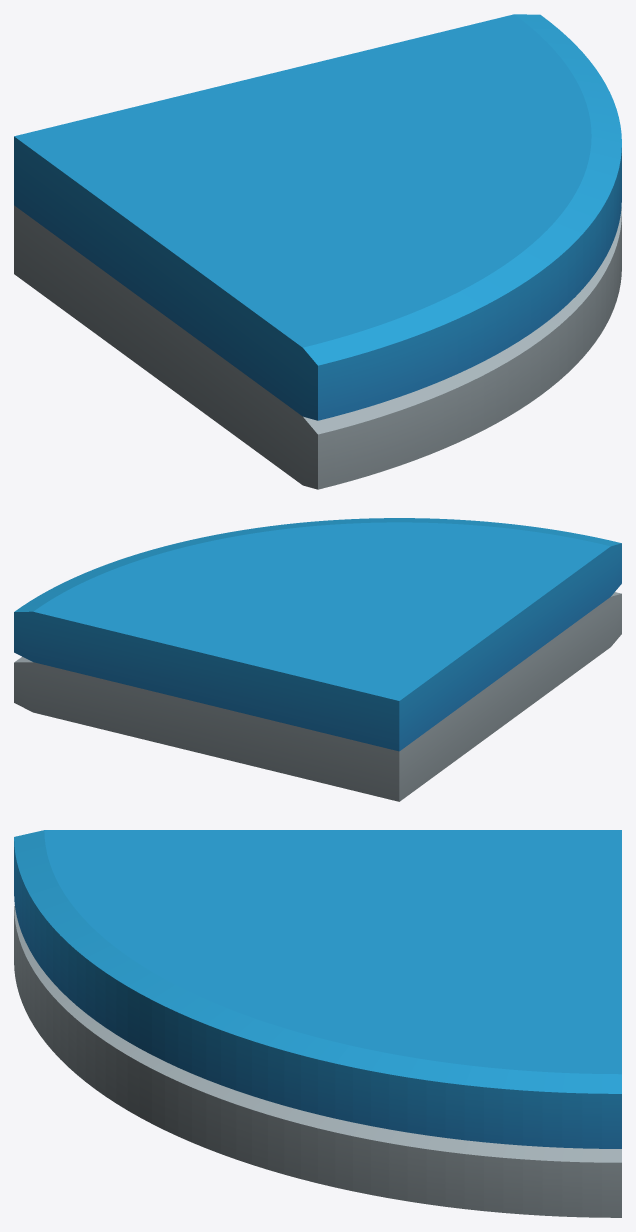
File: kaykit_platform_quarter_circle_4x4x1_blue.glb
The picture shows the model from 3 angles, top to bottom: view 1: azimuth 30°, elevation 25°; view 2: azimuth 150°, elevation 25°; view 3: azimuth 270°, elevation 25°; orthographic projection. The views are drawn at different scales.
Parts seen in each view (by area): view 1: kaykit_platform_quarter_circle_blue_visual; view 2: kaykit_platform_quarter_circle_blue_visual; view 3: kaykit_platform_quarter_circle_blue_visual.
Part boxes in pixels (bbox=[...]): kaykit_platform_quarter_circle_blue_visual: bbox=[14, 14, 621, 489]; kaykit_platform_quarter_circle_blue_visual: bbox=[14, 518, 621, 801]; kaykit_platform_quarter_circle_blue_visual: bbox=[14, 830, 621, 1217].
Size of what is drawn, in the model's own units: 4 by 1 by 4.
Materials: 1 (1 with a texture image).
